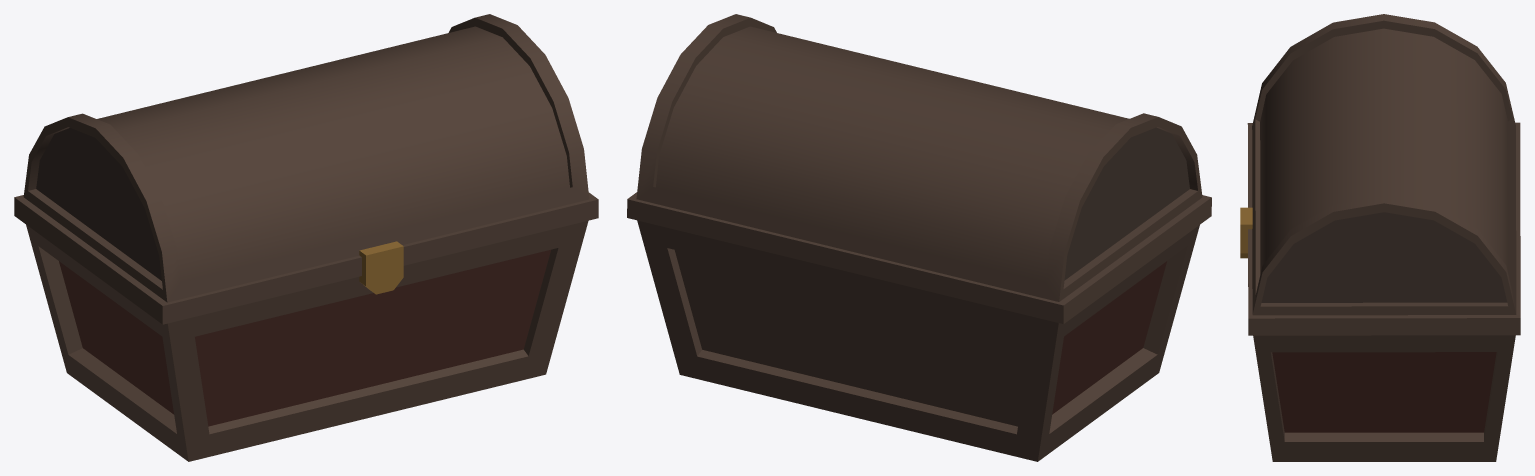
File: Forziere chiuso.fbx
3 renders of one model, left to right at view 1: azimuth 30°, elevation 25°; view 2: azimuth 150°, elevation 25°; view 3: azimuth 270°, elevation 25°, orthographic. The views are drawn at different scales.
Visible parts, largest first — view 1: Treasure chest 2.001; view 2: Treasure chest 2.001; view 3: Treasure chest 2.001.
Boxes of the visible parts, left/top/right/bottom form: Treasure chest 2.001: left=14, top=14, right=598, bottom=461; Treasure chest 2.001: left=627, top=14, right=1211, bottom=461; Treasure chest 2.001: left=1240, top=14, right=1520, bottom=461.
Size of the model in its own units: 157 by 102 by 95.37.
